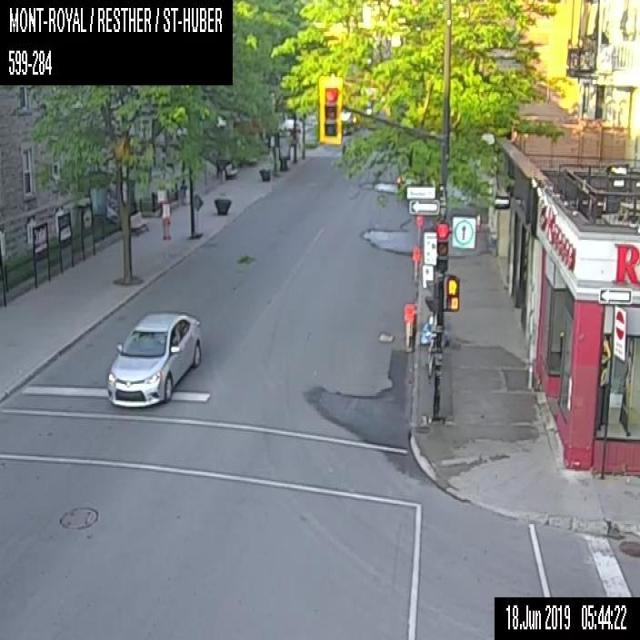construction: (403, 302, 414, 350), (411, 245, 420, 279), (415, 215, 422, 243)
vehicle: (107, 312, 201, 408)
